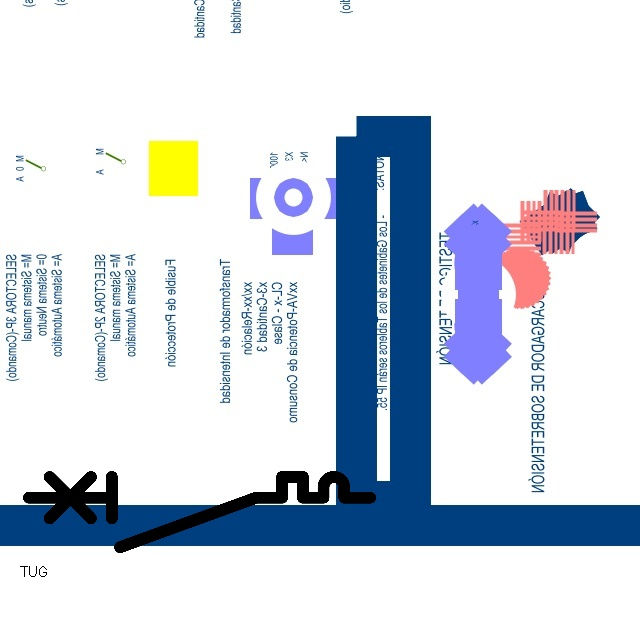interruptor_termomagnetico: (20, 468, 379, 556)
